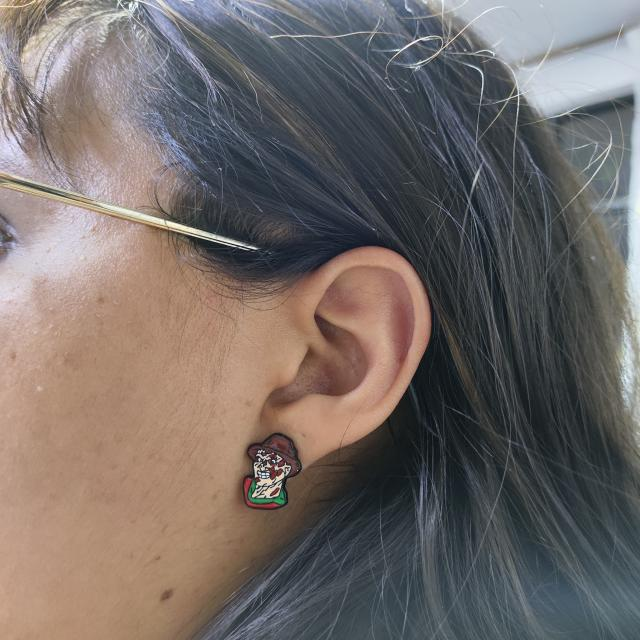ear: (258, 246, 431, 468)
